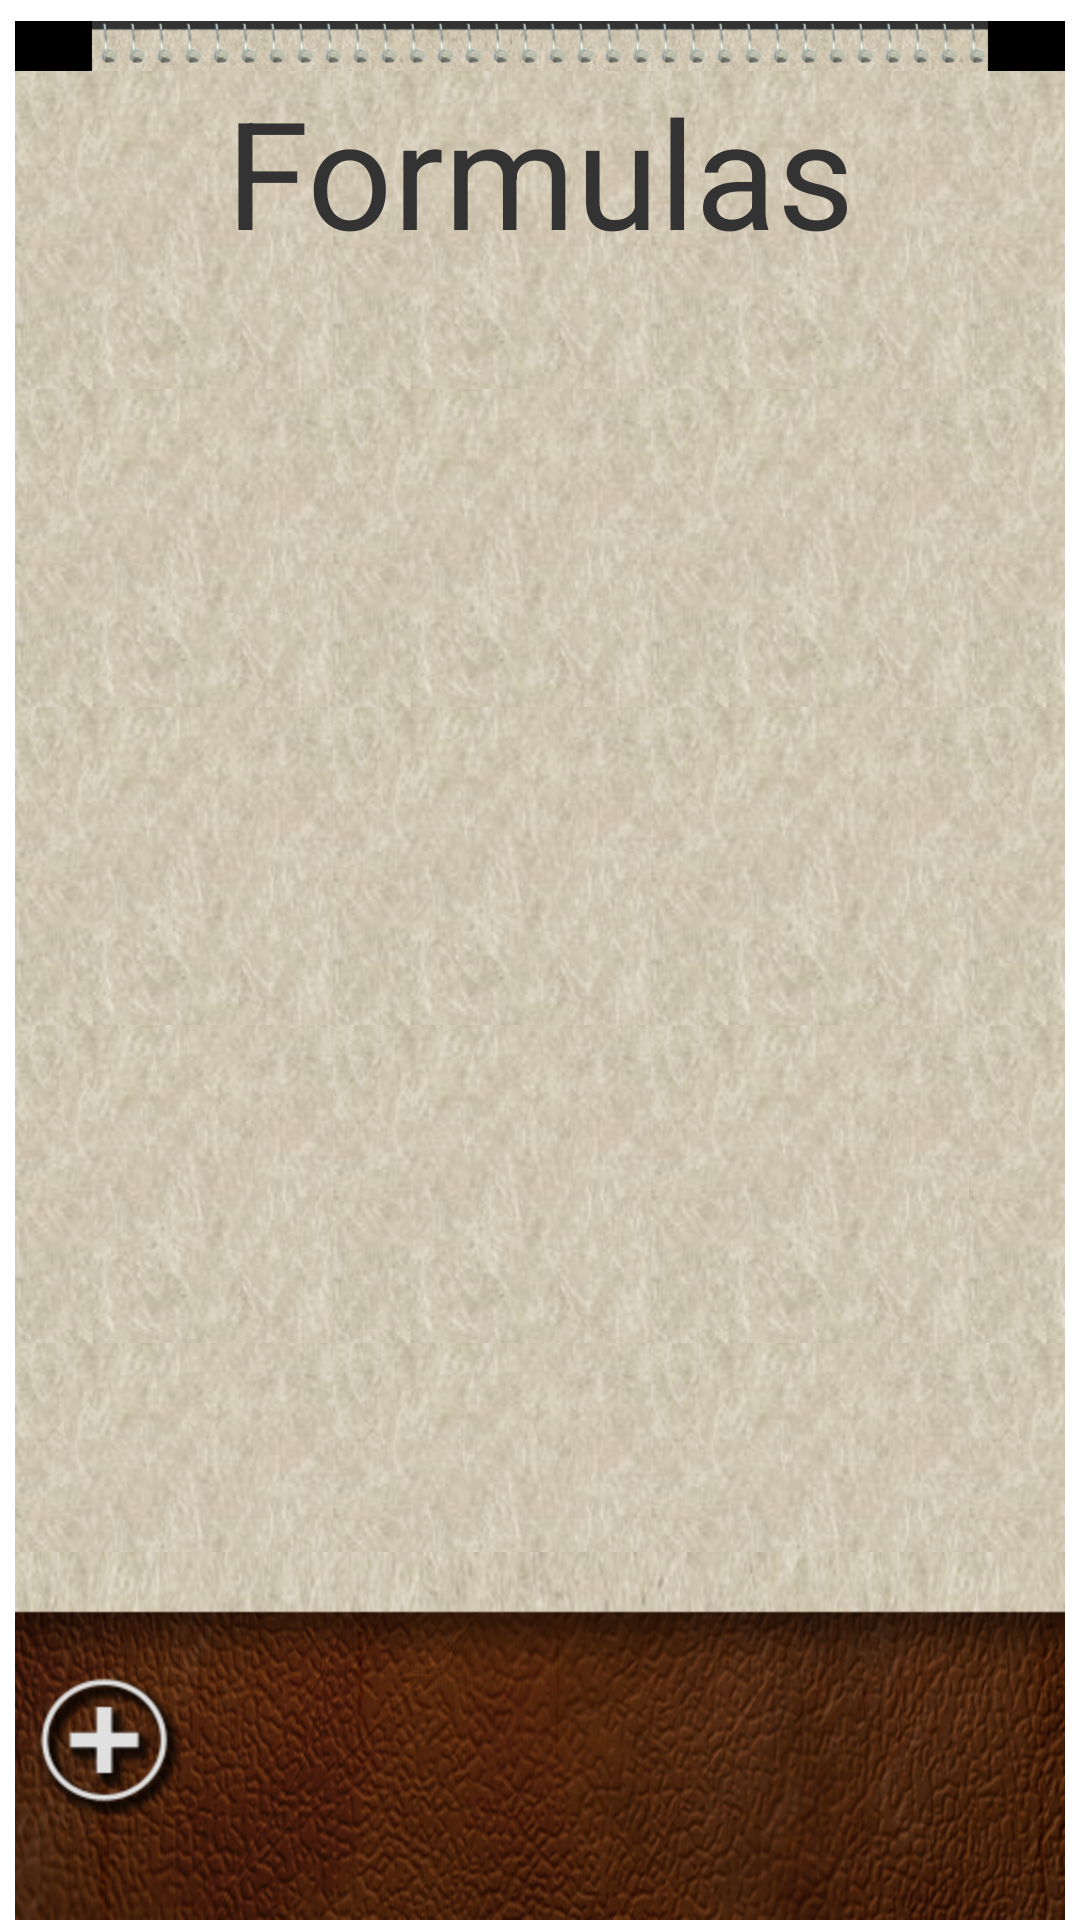

Named icons in this screenshot (1080 × 1920) and their centers, point (x, y):
add: point (105, 1735)
